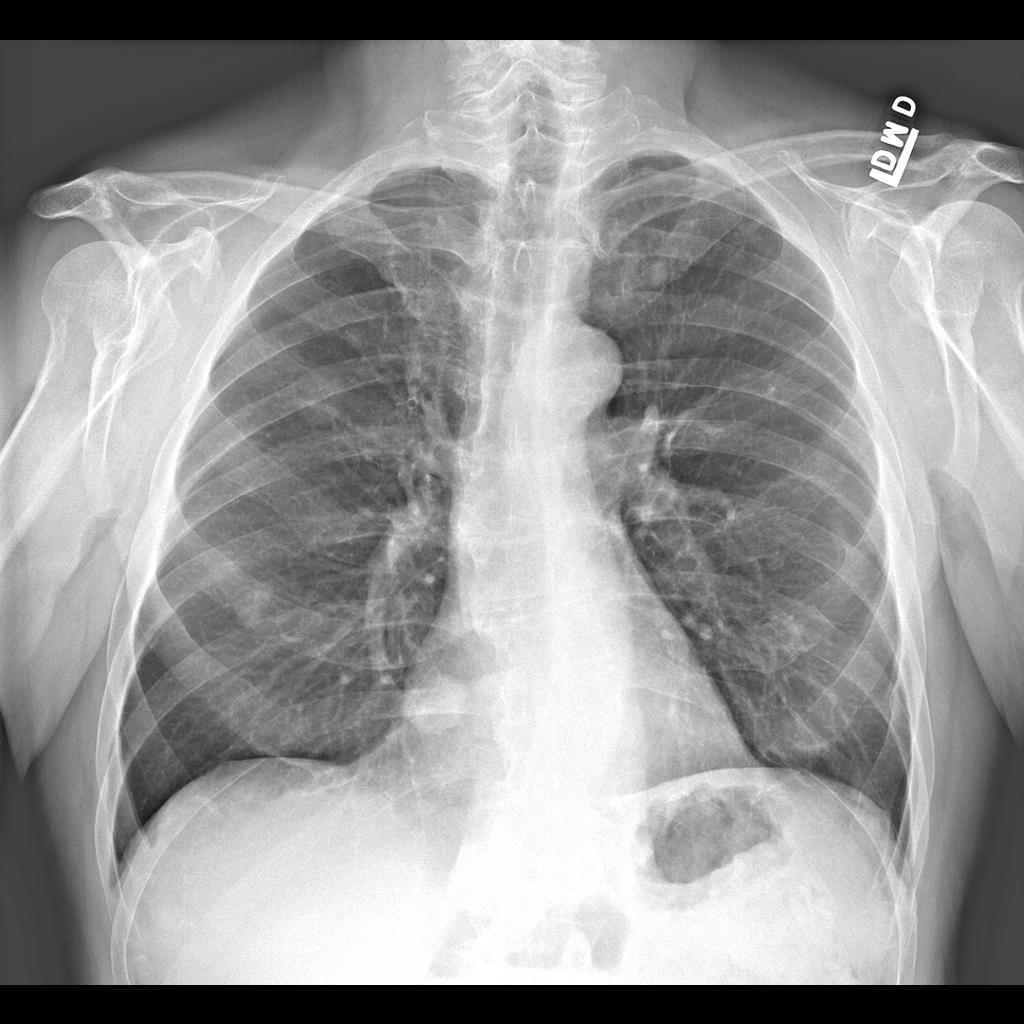Nodule: (408, 677, 468, 740)
